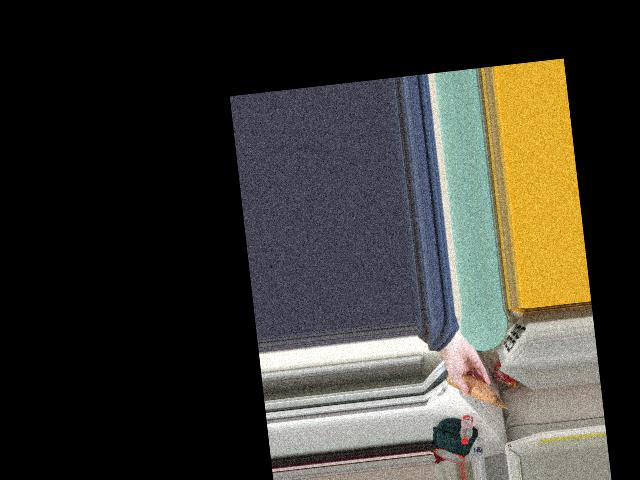sweet_potato: (447, 365, 486, 400)
